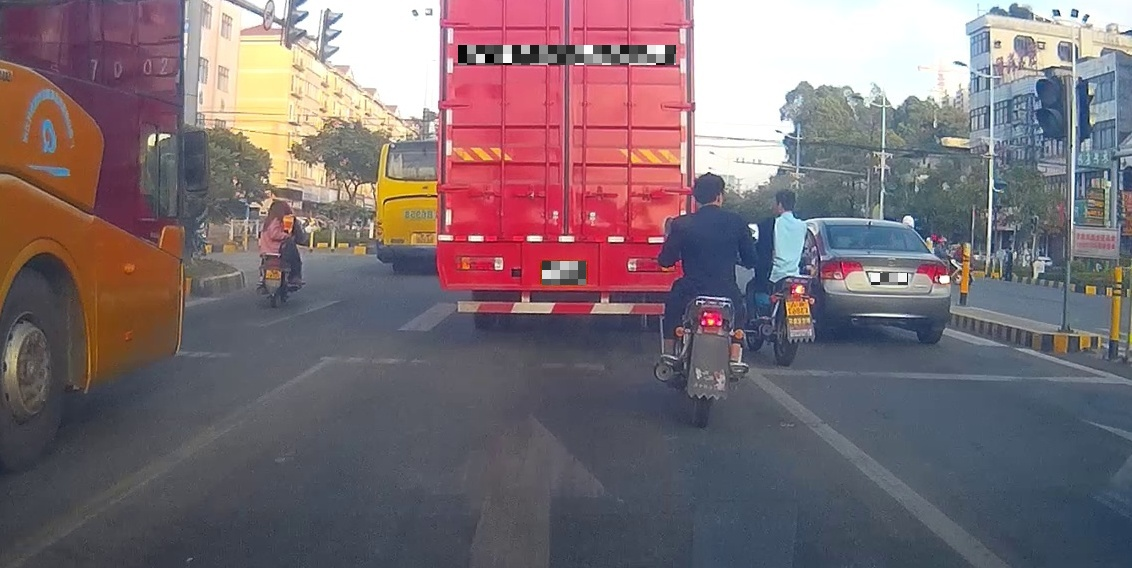L_light: (819, 260, 864, 280)
R_light: (915, 263, 951, 284)
T_light: (862, 225, 886, 233)
day-right: (819, 218, 952, 344)
plate_1: (458, 45, 676, 65)
plate_2: (542, 261, 586, 285)
plate_3: (871, 273, 908, 285)
